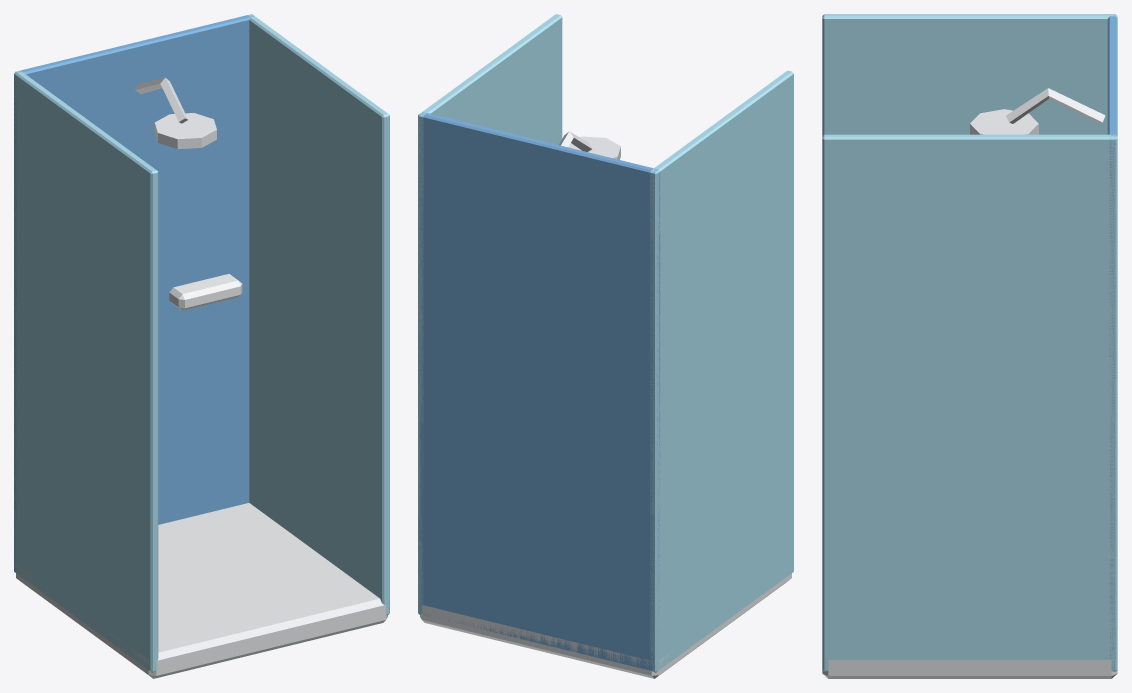
File: Shower.fbx
The picture shows the model from 3 angles, left to right: view 1: azimuth 30°, elevation 25°; view 2: azimuth 150°, elevation 25°; view 3: azimuth 270°, elevation 25°; orthographic projection. The views are drawn at different scales.
Parts seen in each view (by area): view 1: Shower; view 2: Shower; view 3: Shower.
Boxes of the visible parts, bbox=[...] form: Shower: bbox=[14, 14, 389, 678]; Shower: bbox=[418, 14, 793, 678]; Shower: bbox=[822, 14, 1117, 678].
Size of the model in its own units: 3 by 6.1 by 3.
Materials: 1 (1 with a texture image).
